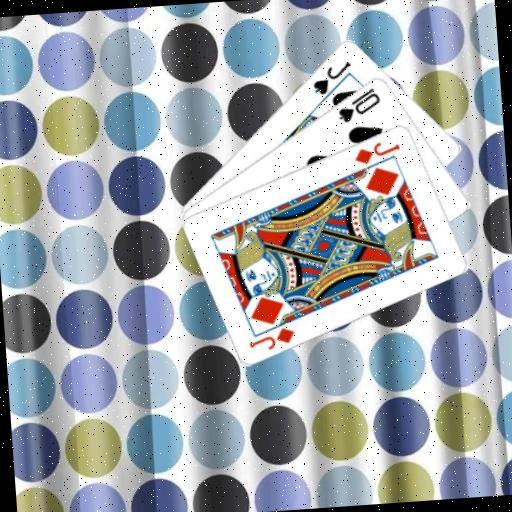10S: (333, 83, 383, 125)
JD: (351, 137, 403, 167), (246, 323, 298, 353)
JS: (308, 58, 354, 97)
